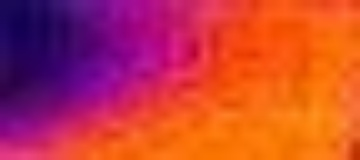Shadow: (1, 1, 185, 125)
